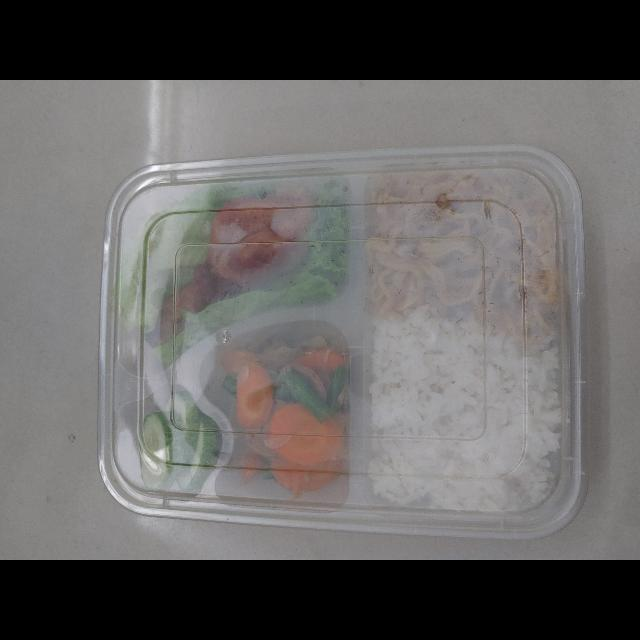bento: (81, 136, 603, 552)
